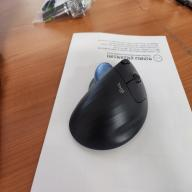mouse: (68, 57, 150, 152)
